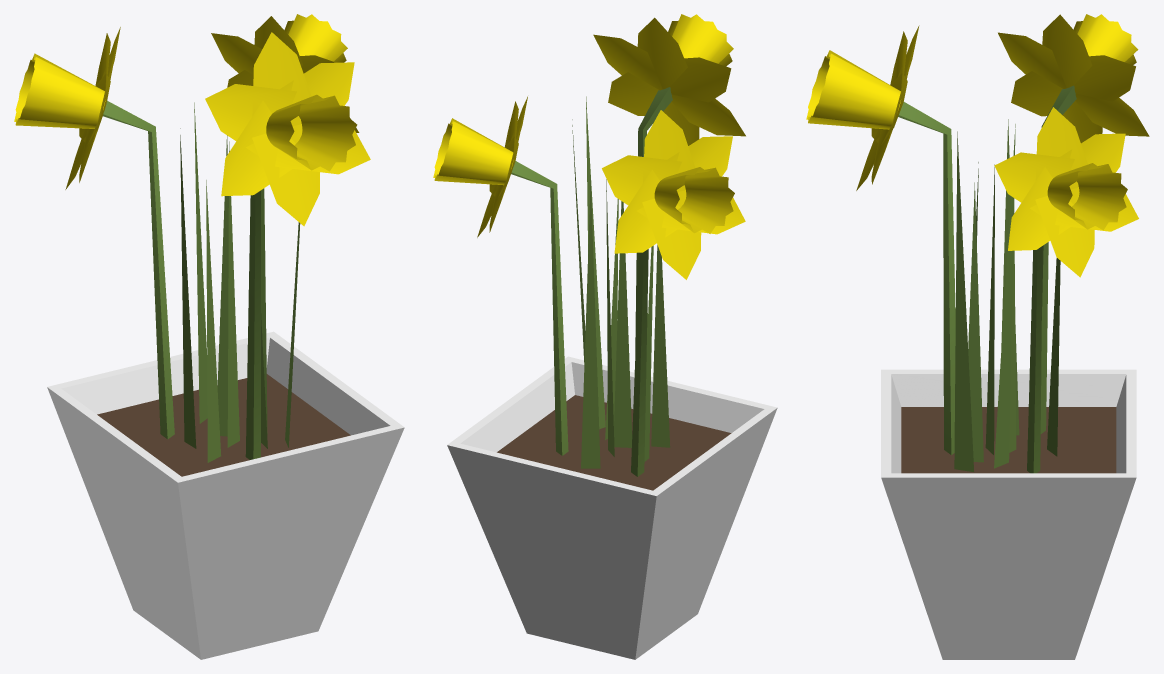
The model's file is daffodil.glb.
3 renders of one model, left to right at view 1: azimuth 30°, elevation 25°; view 2: azimuth 150°, elevation 25°; view 3: azimuth 270°, elevation 25°, orthographic. The views are drawn at different scales.
Visible parts, largest first — view 1: Pot, Daffodil_Center, Daffodil_Center_3, Stem, Stem_3, Petal_Instance_4_3, Petal_Instance_5_3, Petal_Instance_3_3, Petal_3, Blade_1_2, Blade_3, Blade_2_3 (+9 smaller); view 2: Pot, Daffodil_Center, Daffodil_Center_2, Stem_2, Blade_3_2, Stem, Blade, Blade_1_2, Daffodil_Center_3, Petal_Instance_4, Petal_Instance_5, Petal_Instance_3 (+15 smaller); view 3: Pot, Daffodil_Center_3, Stem_3, Daffodil_Center_2, Blade_2_2, Stem_2, Blade_2, Blade_1, Petal_Instance_5_2, Petal_Instance_4_2, Petal_Instance_3_2, Petal (+14 smaller).
Part boxes in pixels (x1,y1,x2,y2): Pot: (47, 331, 404, 659); Daffodil_Center: (14, 53, 105, 128); Daffodil_Center_3: (266, 94, 357, 171); Stem: (103, 101, 174, 439); Stem_3: (245, 190, 260, 459); Petal_Instance_4_3: (221, 100, 292, 196); Petal_Instance_5_3: (205, 84, 296, 155); Petal_Instance_3_3: (252, 133, 319, 226); Petal_3: (252, 32, 311, 126); Blade_1_2: (206, 180, 221, 462); Blade_3: (180, 128, 196, 448); Blade_2_3: (217, 135, 228, 436); Pot: (447, 356, 777, 659); Daffodil_Center: (654, 167, 734, 233); Daffodil_Center_2: (433, 118, 513, 185); Stem_2: (511, 161, 568, 455); Blade_3_2: (581, 179, 600, 468); Stem: (631, 249, 648, 476); Blade: (614, 201, 632, 447); Blade_1_2: (651, 245, 670, 447); Daffodil_Center_3: (668, 14, 733, 66); Petal_Instance_4: (614, 169, 676, 253); Petal_Instance_5: (602, 155, 681, 218); Petal_Instance_3: (642, 198, 701, 279); Pot: (881, 369, 1136, 659); Daffodil_Center_3: (806, 50, 900, 129); Stem_3: (898, 102, 955, 454); Daffodil_Center_2: (1047, 163, 1127, 230); Blade_2_2: (954, 131, 973, 471); Stem_2: (1027, 246, 1042, 473); Blade_2: (994, 124, 1015, 468); Blade_1: (968, 182, 983, 462); Petal_Instance_5_2: (994, 152, 1074, 215); Petal_Instance_4_2: (1008, 167, 1069, 250); Petal_Instance_3_2: (1035, 196, 1094, 277); Petal: (1042, 14, 1092, 87).
Size of the model in its own units: 2.69 by 4.96 by 2.54.
